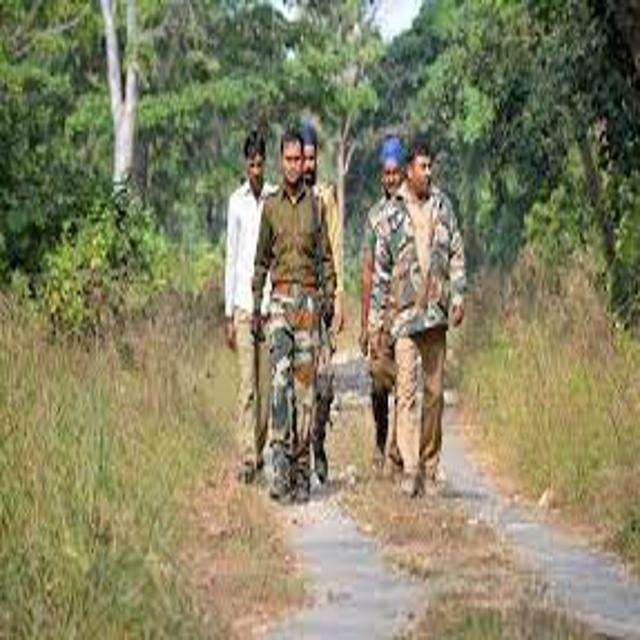poacher: (348, 118, 491, 519), (229, 110, 356, 525), (187, 112, 294, 497), (281, 106, 368, 384), (333, 124, 420, 374)
